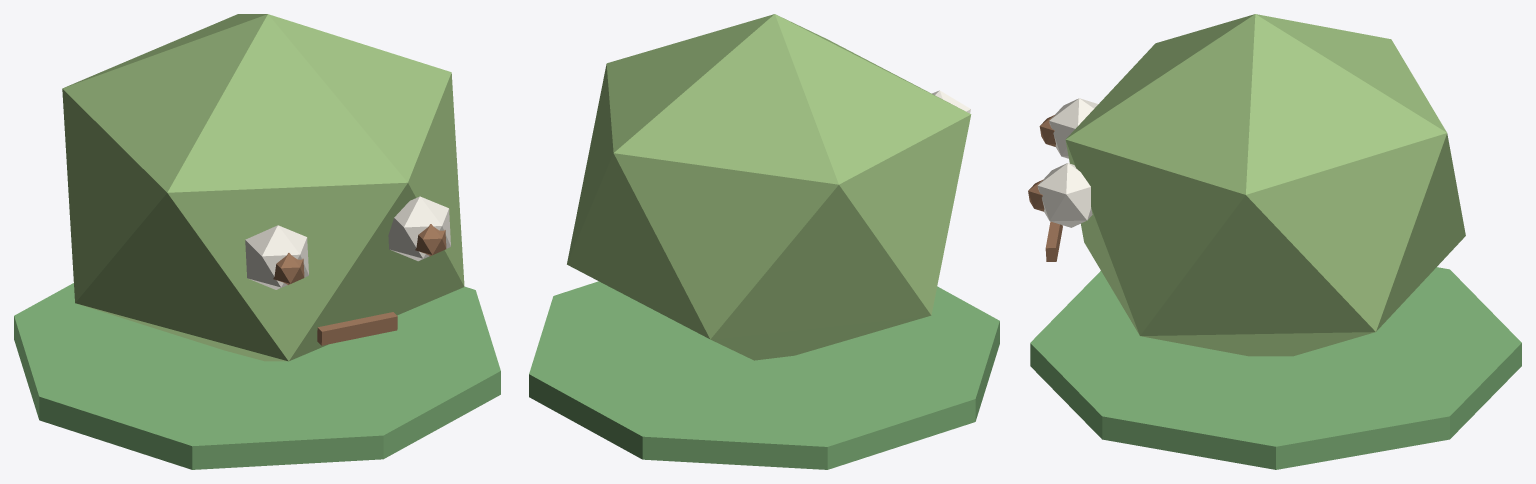
File: npcpose_slime_idle_04.glb
3 renders of one model, left to right at view 1: azimuth 30°, elevation 25°; view 2: azimuth 150°, elevation 25°; view 3: azimuth 270°, elevation 25°, orthographic. The views are drawn at different scales.
Parts seen in each view (by area): view 1: npcpose; view 2: npcpose; view 3: npcpose.
Part boxes in pixels (left/top/right/bottom): npcpose: left=14, top=14, right=500, bottom=469; npcpose: left=529, top=14, right=999, bottom=469; npcpose: left=1028, top=14, right=1521, bottom=469.
Bounding box in the file's own units: 0.96 × 0.7583 × 0.9642.
